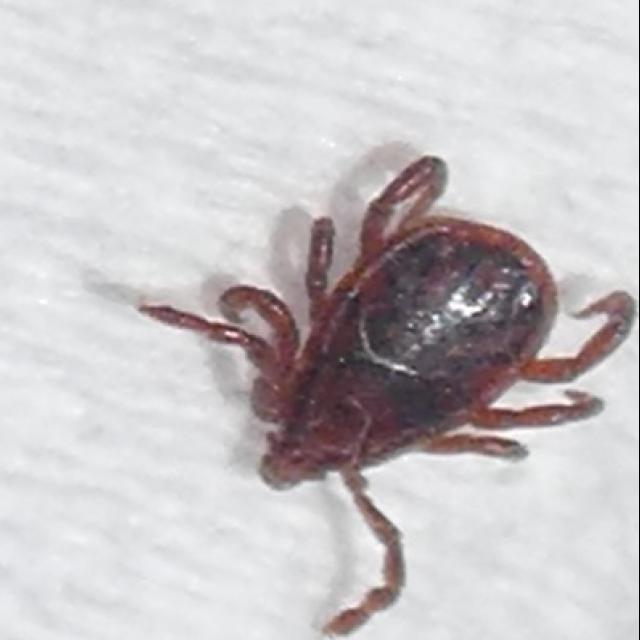Rhipicephalus Sanguineus-M: (137, 153, 637, 638)
